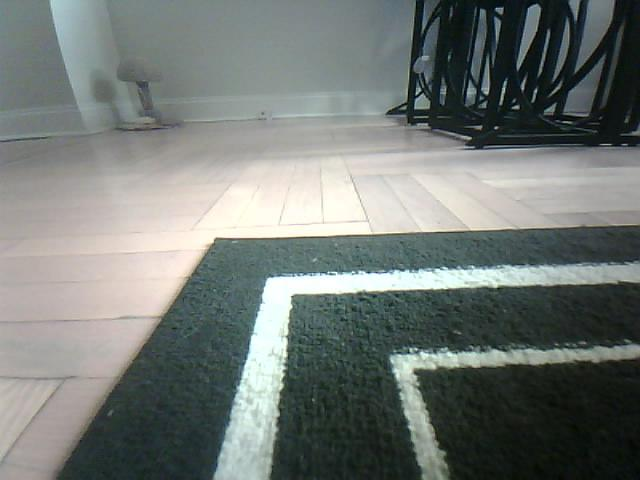curved-road-line: (258, 258, 640, 300), (388, 341, 640, 373)
road-line: (204, 295, 292, 480), (389, 372, 455, 480)
